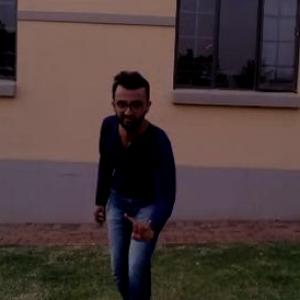takeoff-hand: (121, 199, 160, 249)
